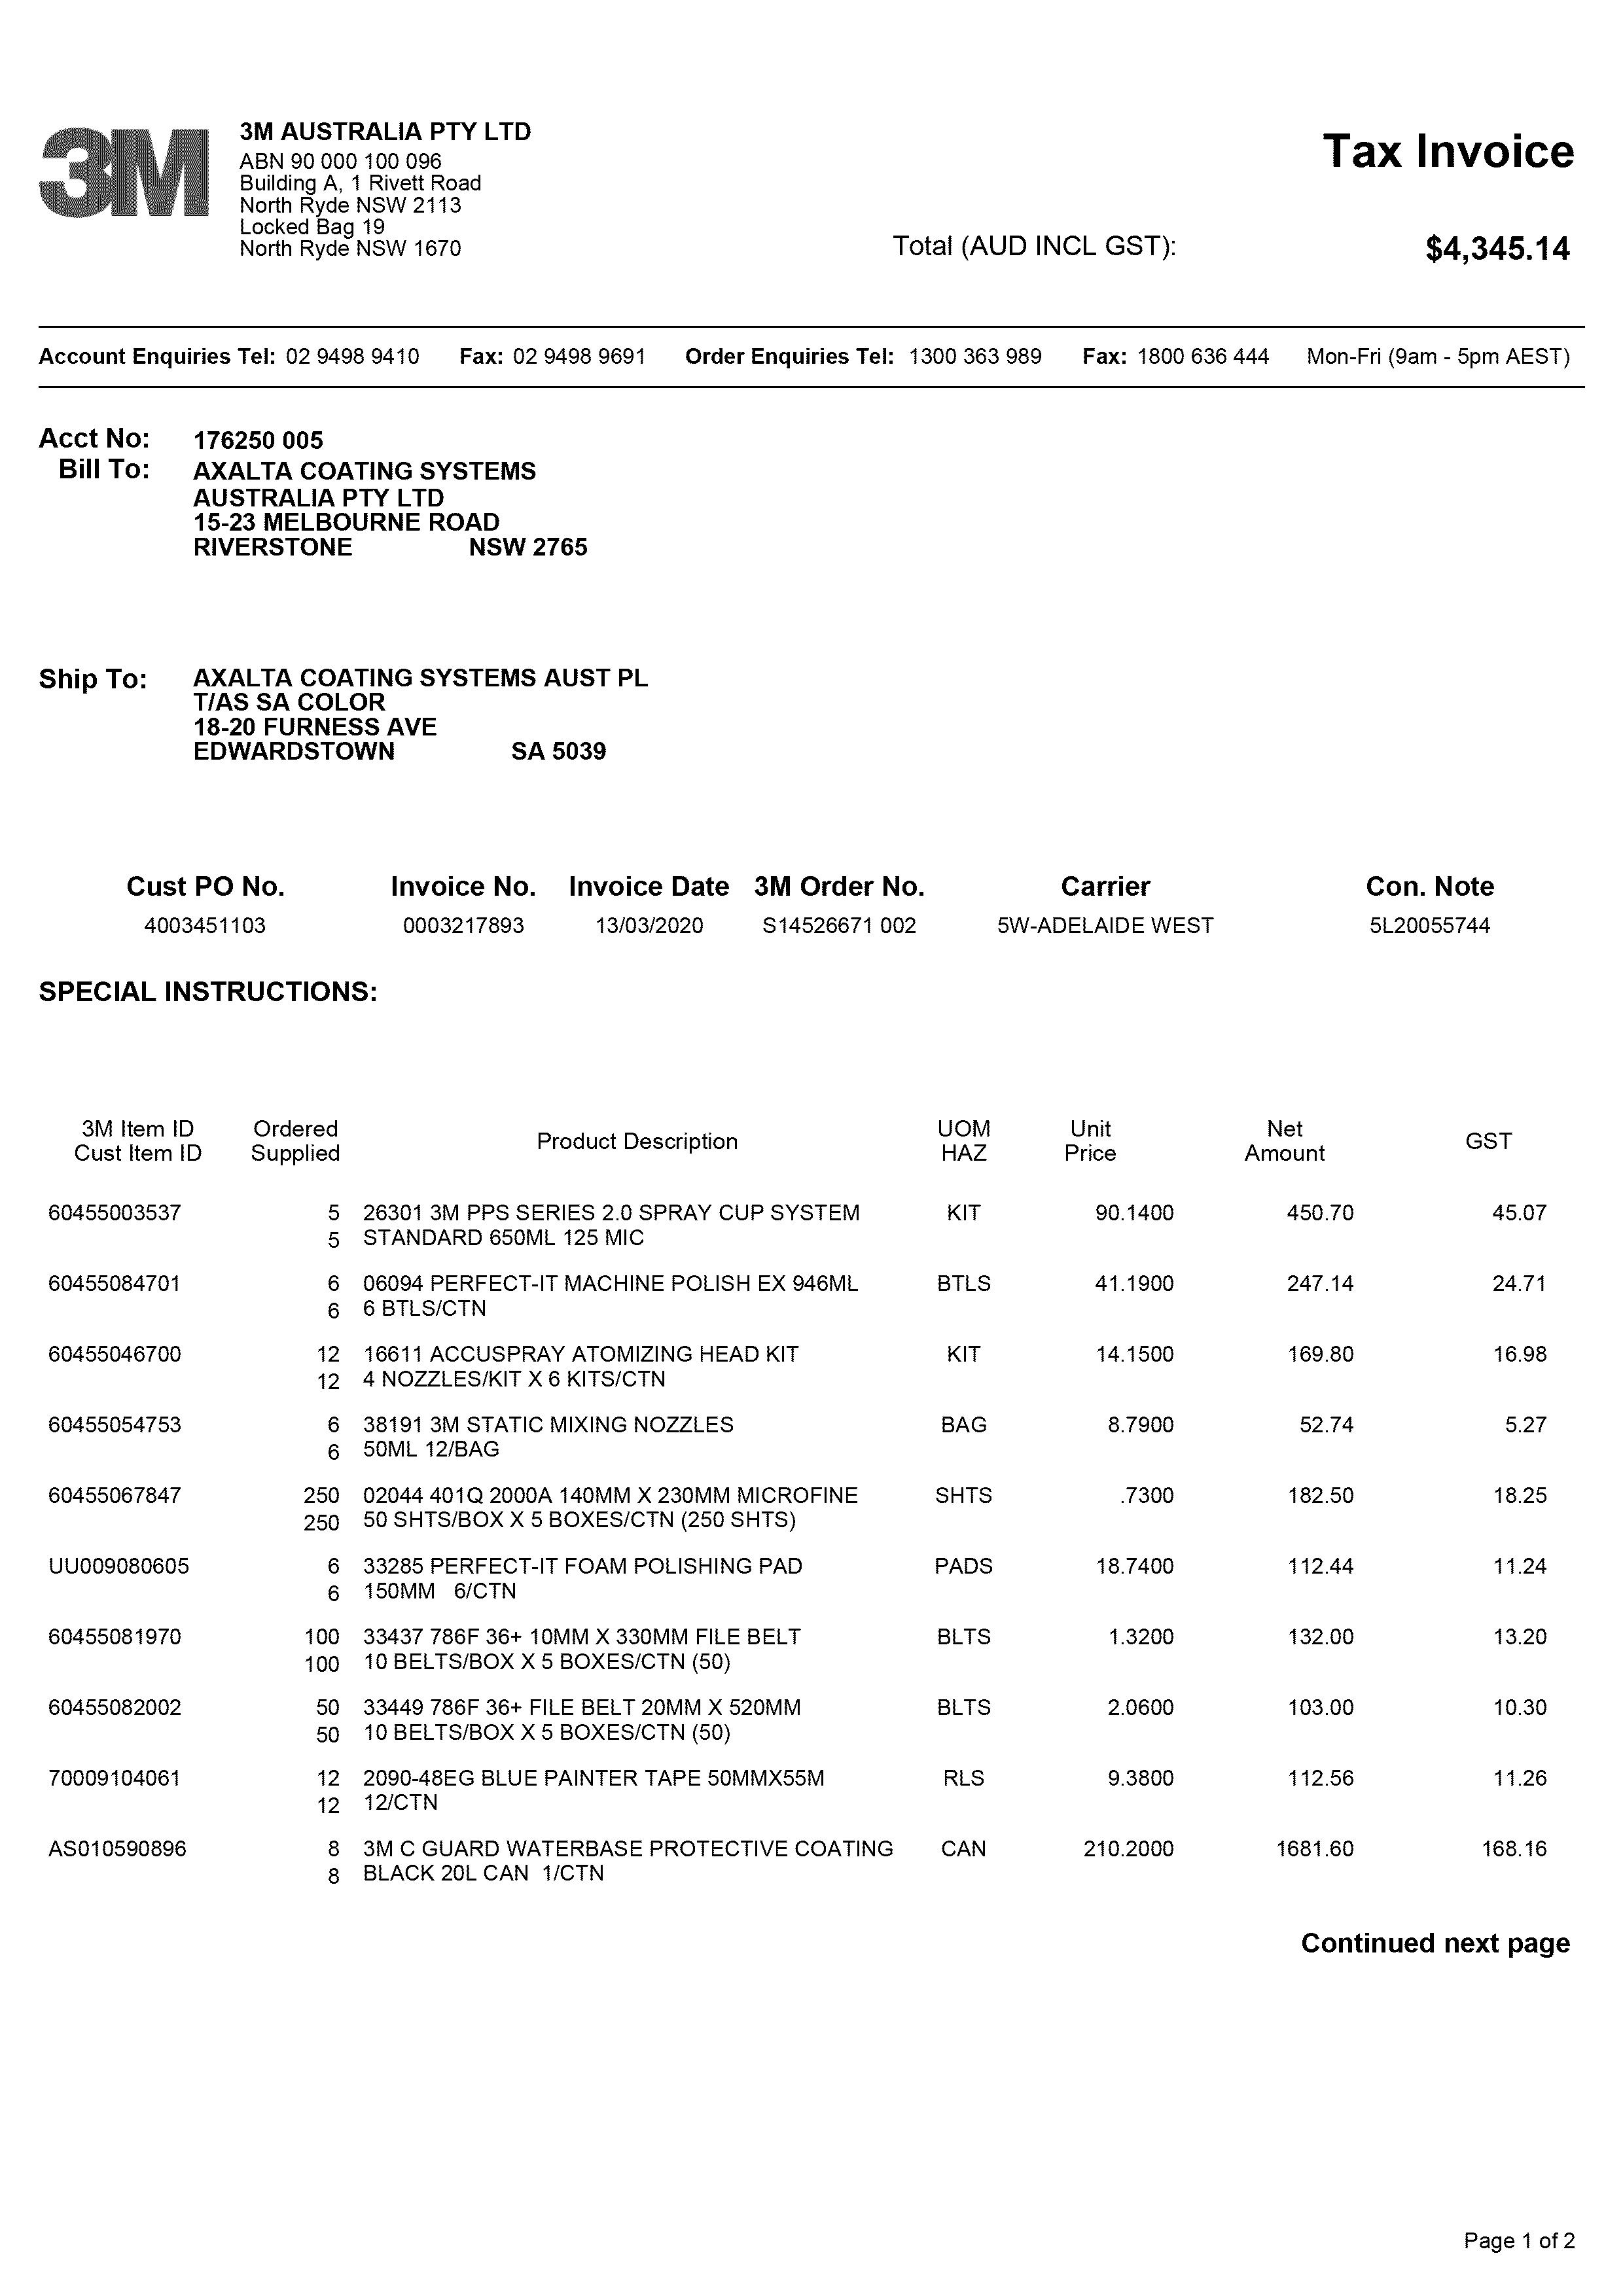B_Paragraph: (44, 328, 1576, 383), (191, 421, 588, 579), (188, 658, 652, 772), (234, 149, 483, 274), (1298, 1905, 1583, 1978), (894, 228, 1180, 270), (1437, 2215, 1591, 2261), (1426, 228, 1576, 270)
B_SubTitle: (35, 967, 381, 1020), (28, 418, 153, 490), (28, 660, 153, 699)
B_Table: (39, 1111, 1569, 1901), (112, 869, 1505, 941)
B_Title: (1317, 123, 1584, 186), (242, 107, 545, 149)
